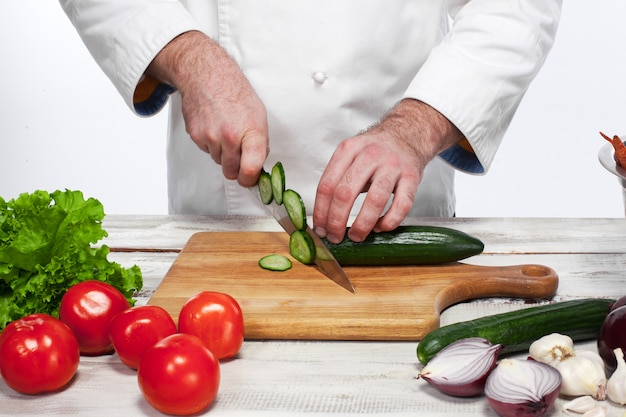knife: (244, 161, 356, 294)
